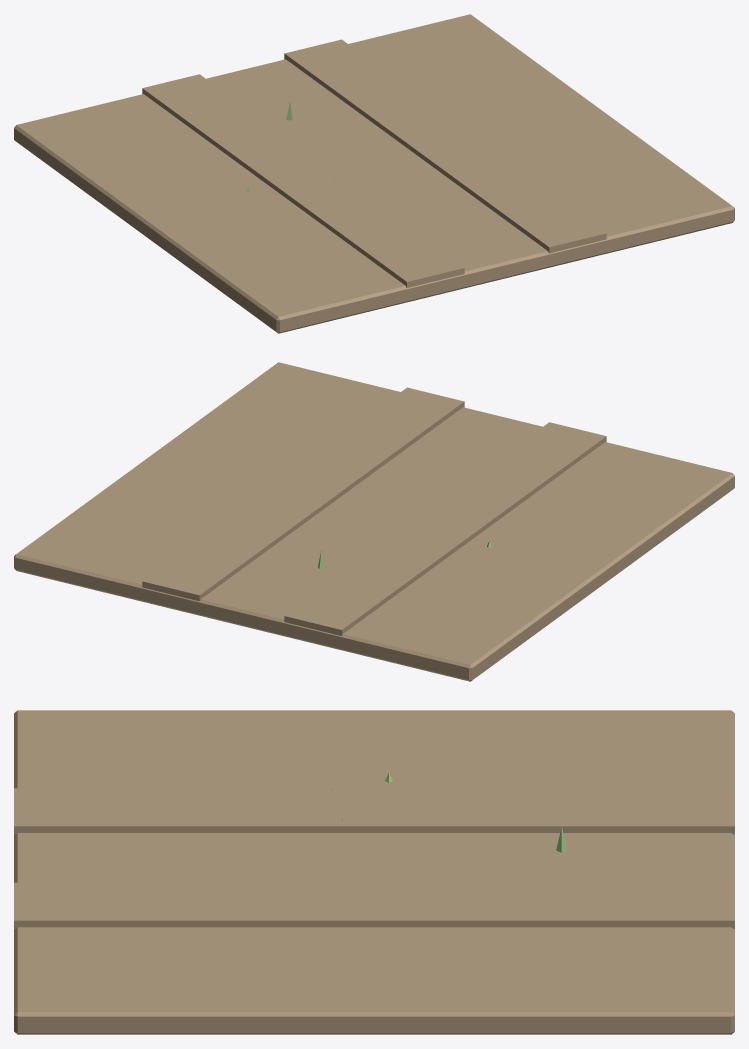
File: town_dirt_path_tile.glb
The picture shows the model from 3 angles, top to bottom: view 1: azimuth 30°, elevation 25°; view 2: azimuth 150°, elevation 25°; view 3: azimuth 270°, elevation 25°; orthographic projection. The views are drawn at different scales.
Parts seen in each view (by area): view 1: world; view 2: world; view 3: world.
Boxes of the visible parts, <box> form: world: <box>14,14,734,333</box>; world: <box>14,362,734,681</box>; world: <box>14,710,734,1034</box>.
Size of the model in its own units: 2 by 0.2015 by 2.
